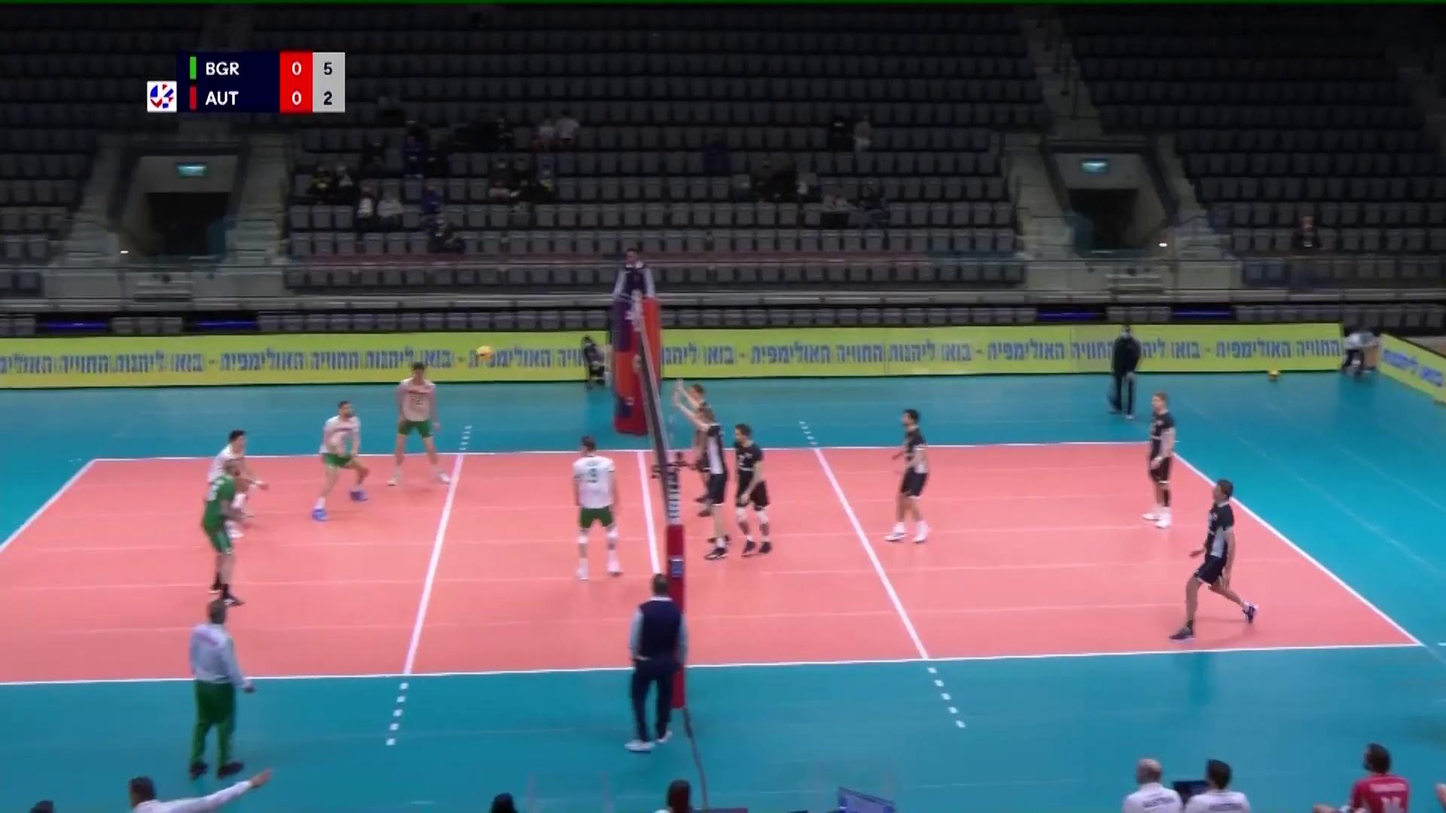ball: (477, 347, 493, 359)
